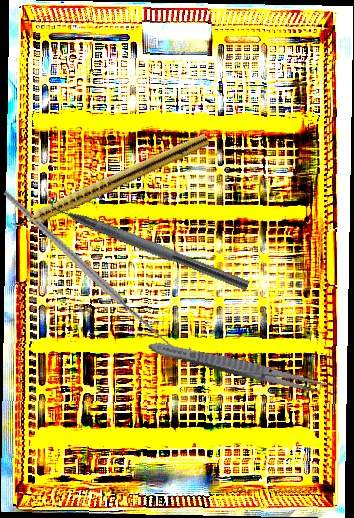Chopper: (35, 185, 256, 292)
Dressing Forceps: (145, 336, 332, 398)
Handpiece: (9, 128, 210, 236)
Hook Surgical: (2, 151, 192, 392)
